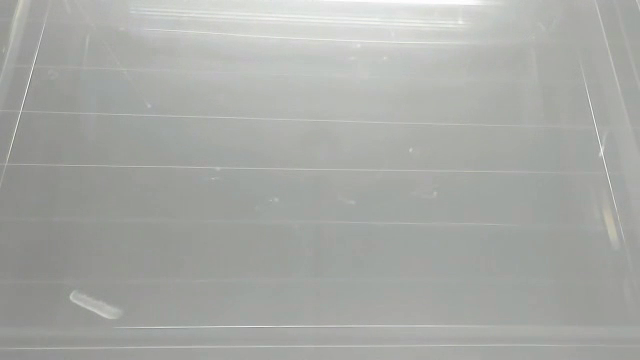alpha: (65, 286, 127, 324)
